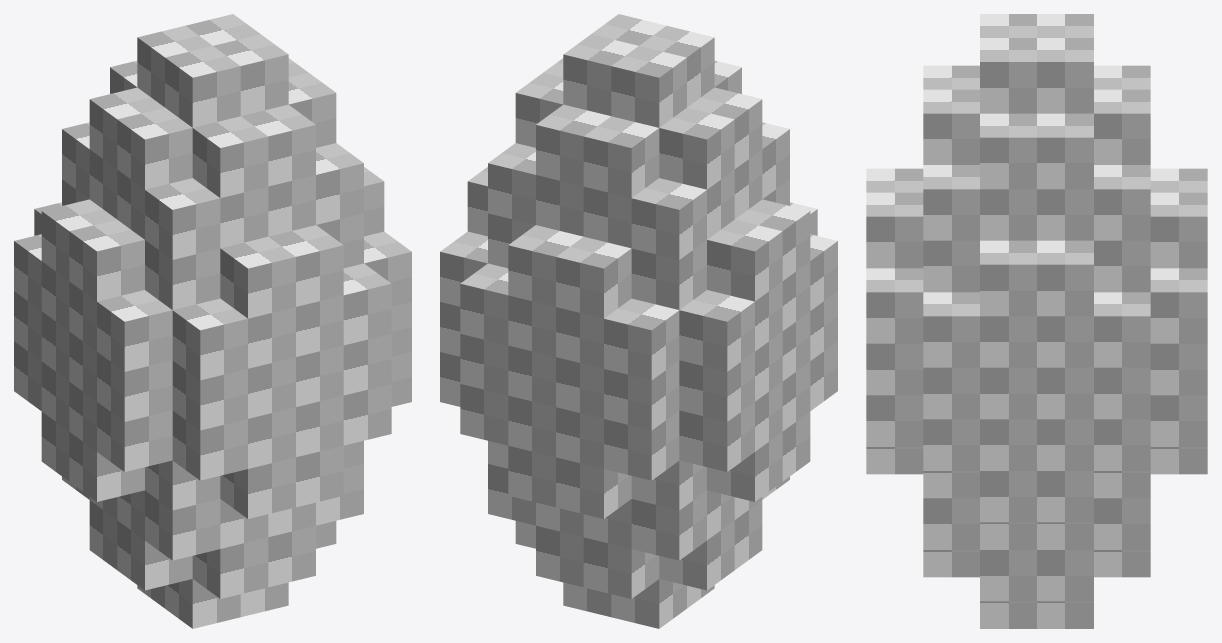
The model's file is crystal.obj.
The picture shows the model from 3 angles, left to right: view 1: azimuth 30°, elevation 25°; view 2: azimuth 150°, elevation 25°; view 3: azimuth 270°, elevation 25°; orthographic projection. The views are drawn at different scales.
Visible parts, largest first — view 1: model; view 2: model; view 3: model.
Part boxes in pixels (left/top/right/bottom): model: left=14, top=14, right=411, bottom=628; model: left=440, top=14, right=837, bottom=628; model: left=866, top=14, right=1207, bottom=628.
Size of the model in its own units: 0.75 by 1.38 by 0.75.
